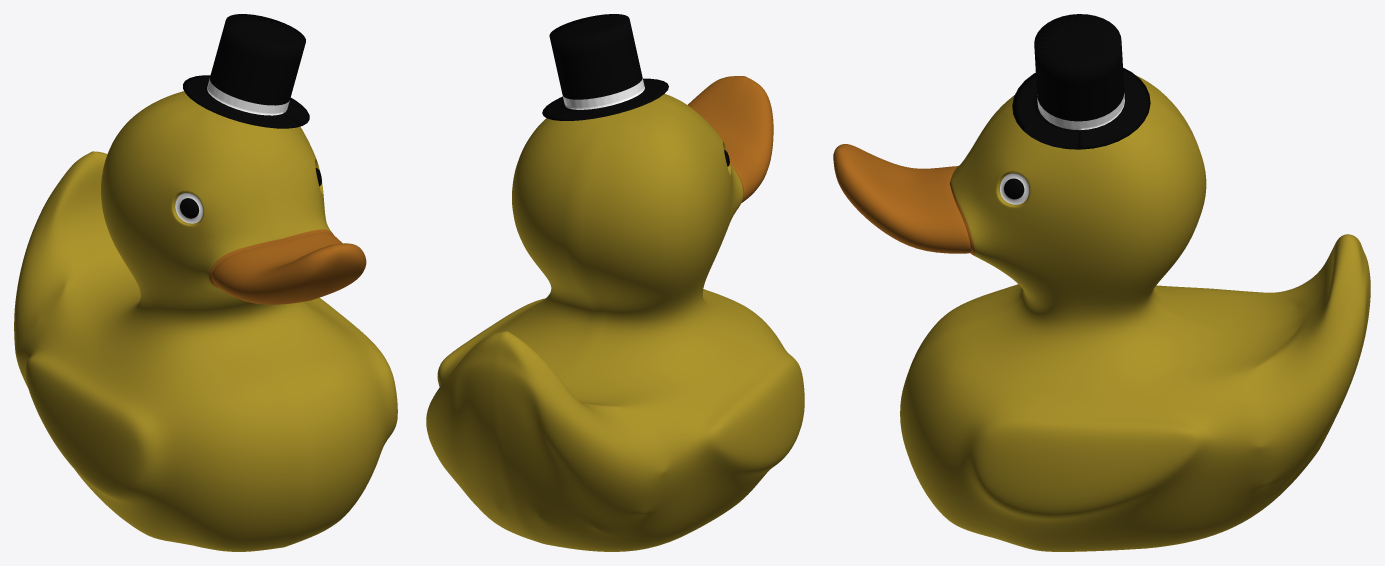
Rendered from DuckieWithHatwhole.glb.
3 renders of one model, left to right at view 1: azimuth 30°, elevation 25°; view 2: azimuth 150°, elevation 25°; view 3: azimuth 270°, elevation 25°, orthographic. The views are drawn at different scales.
Parts seen in each view (by area): view 1: Sphere, Cylinder; view 2: Sphere, Cylinder; view 3: Sphere, Cylinder.
Boxes of the visible parts, left/top/right/bottom form: Sphere: left=14, top=91, right=397, bottom=551; Cylinder: left=183, top=14, right=309, bottom=128; Sphere: left=426, top=76, right=804, bottom=551; Cylinder: left=542, top=14, right=668, bottom=120; Sphere: left=833, top=75, right=1370, bottom=551; Cylinder: left=1012, top=14, right=1150, bottom=149.
Size of the model in its own units: 0.2859 by 0.4433 by 0.4278.
